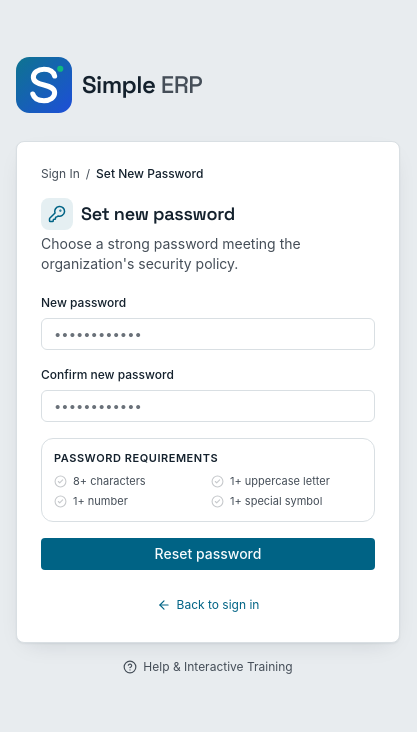
Scenario: Credentials & User Lifecycle Pages › ResetPasswordPage › validates that passwords match before sending request
Type "Secret#123" into the password field with placeholder "••••••••••••" at (208, 334), box left=41, top=318, right=375, bottom=350
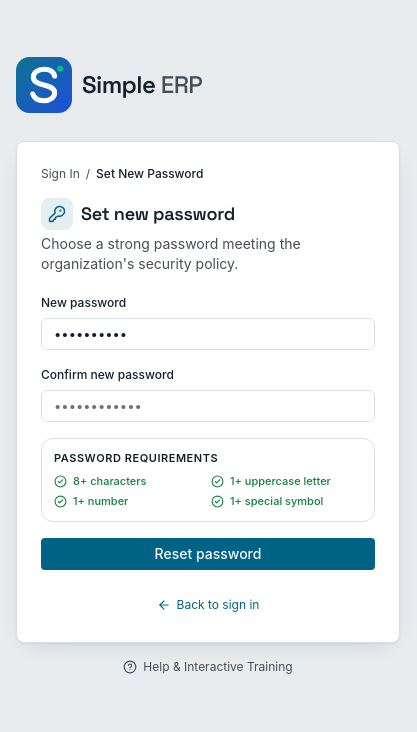
Type "Different#456" into the password field with placeholder "••••••••••••" at (208, 406), box left=41, top=390, right=375, bottom=422
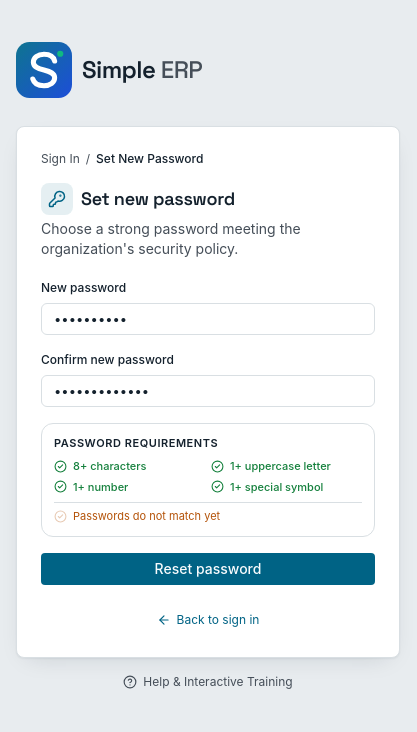
Click the button "Reset password" at (208, 569), box left=41, top=553, right=375, bottom=585
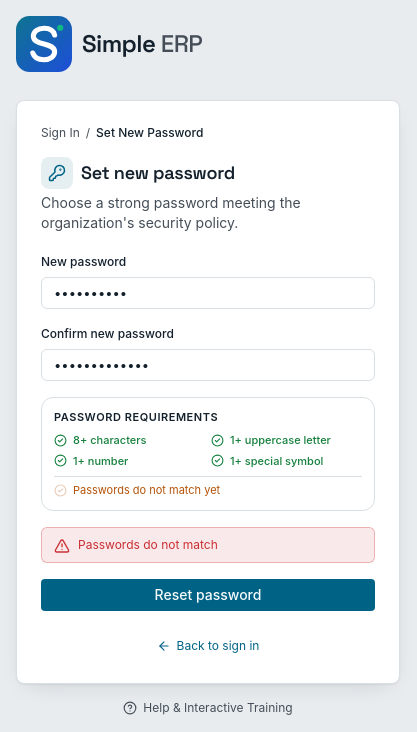
Expected: the text "Passwords do not match" is shown, left=78, top=536, right=218, bottom=554
